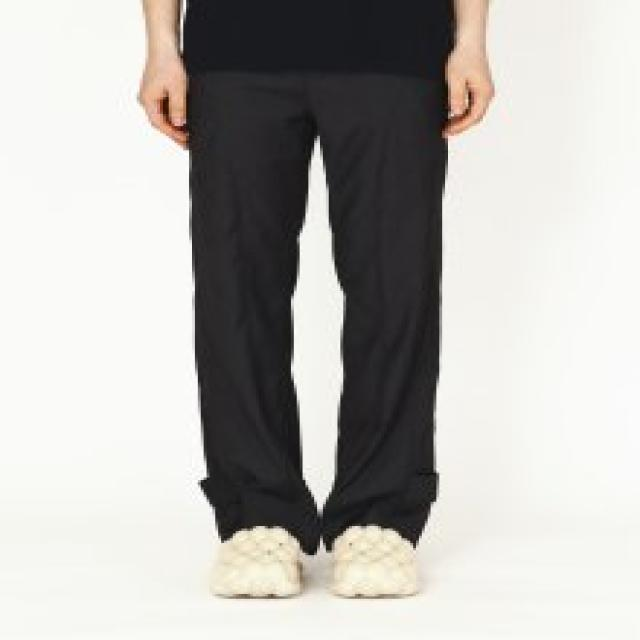long-pants: (183, 69, 446, 544)
